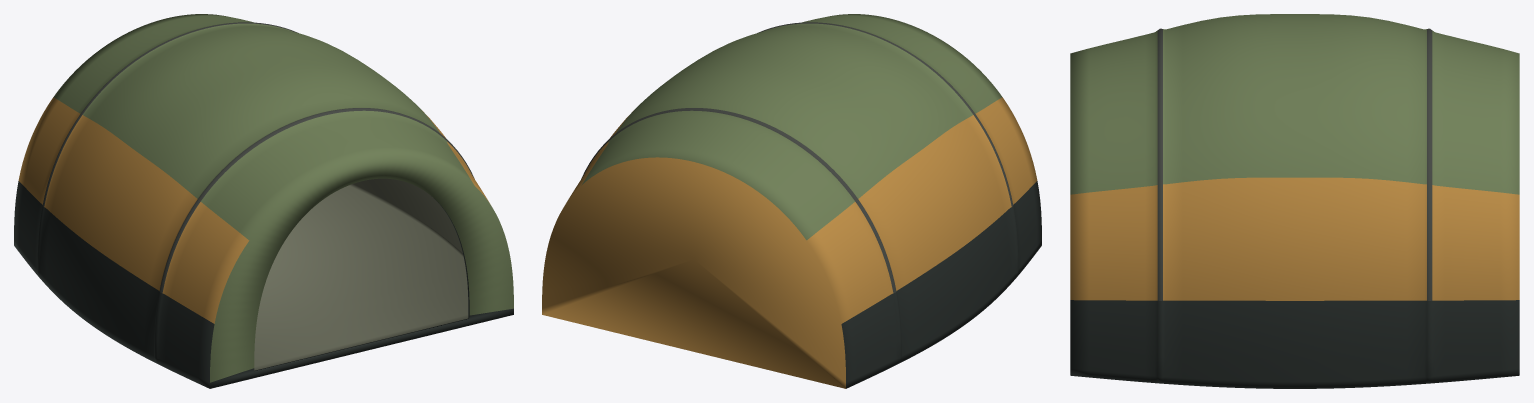
File: A-NEW-20261027-DOME_TENT-001_LOD0_R2.glb
3 views of the same model, side by side, from view 1: azimuth 30°, elevation 25°; view 2: azimuth 150°, elevation 25°; view 3: azimuth 270°, elevation 25° (orthographic). The views are drawn at different scales.
Visible parts, largest first — view 1: original dome tent walls fly ribs floor and entrance; view 2: original dome tent walls fly ribs floor and entrance; view 3: original dome tent walls fly ribs floor and entrance.
Part boxes in pixels (x1=…): original dome tent walls fly ribs floor and entrance: x1=14, y1=14, x2=513, y2=388; original dome tent walls fly ribs floor and entrance: x1=542, y1=14, x2=1041, y2=388; original dome tent walls fly ribs floor and entrance: x1=1070, y1=14, x2=1519, y2=388.
Size of the model in its own units: 2.38 by 1.44 by 2.3.
